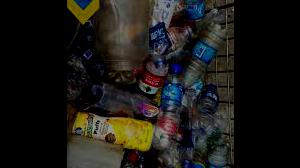Plastic: (95, 0, 151, 76), (176, 22, 228, 92), (67, 115, 155, 152), (153, 85, 184, 153), (186, 78, 220, 135), (81, 82, 140, 112), (201, 136, 231, 167), (185, 0, 208, 38)
